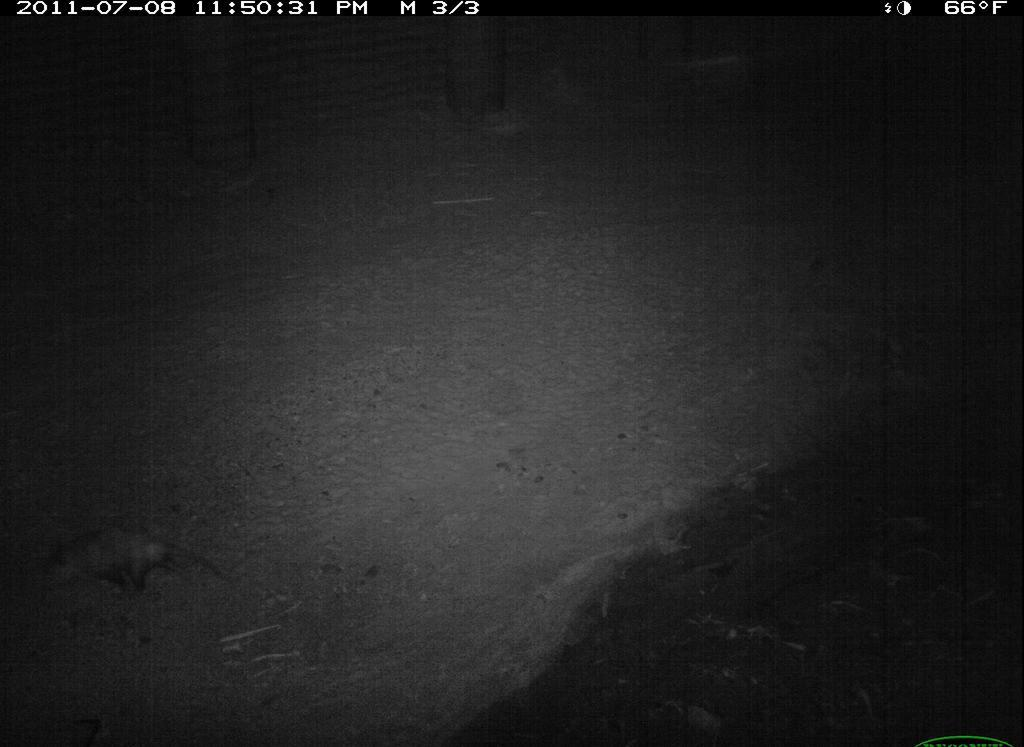opossum: (38, 510, 233, 607)
